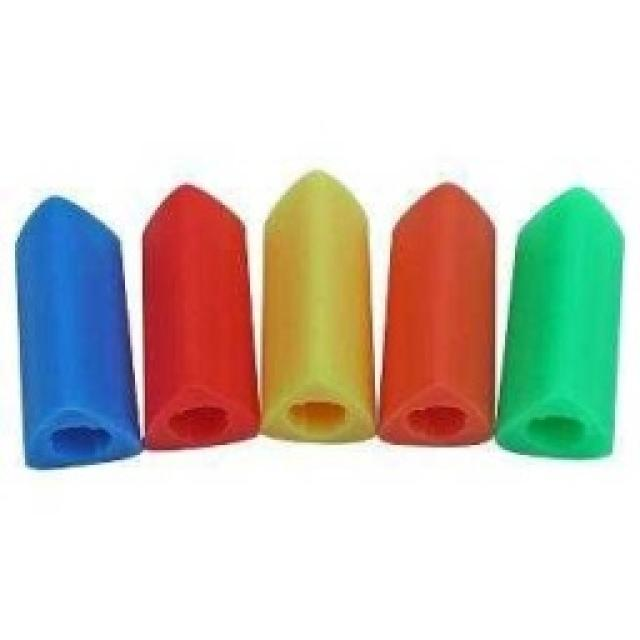pencil: (8, 168, 628, 472)
